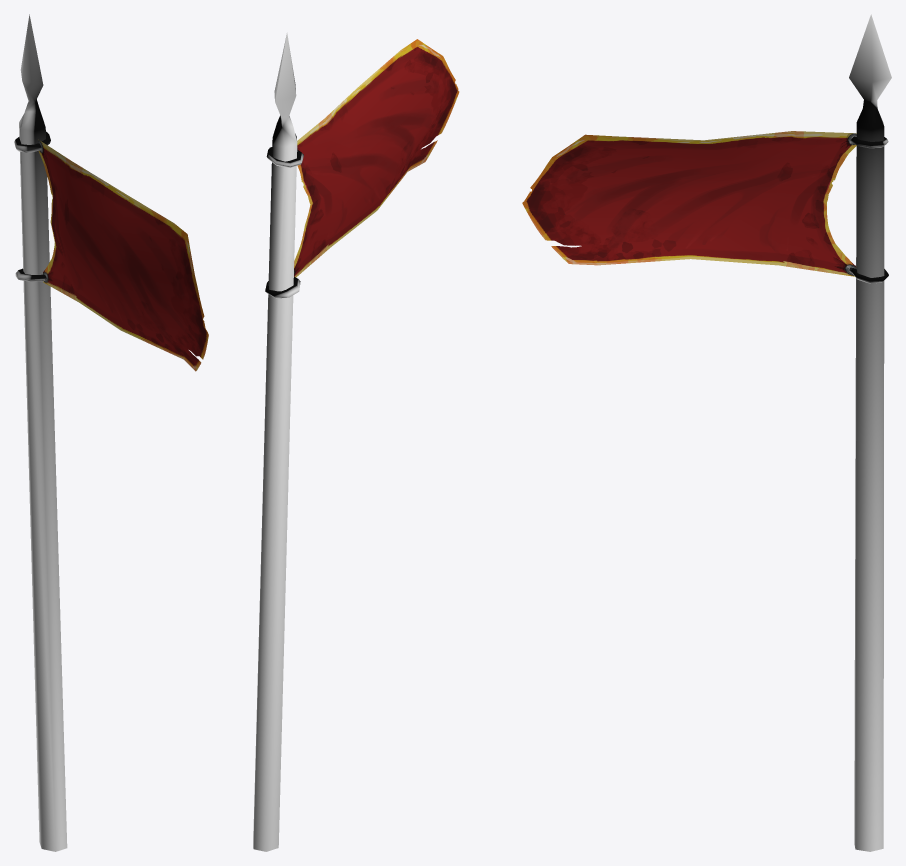
File: SM_PROP_flag_06.FBX
3 renders of one model, left to right at view 1: azimuth 30°, elevation 25°; view 2: azimuth 150°, elevation 25°; view 3: azimuth 270°, elevation 25°, orthographic.
Parts seen in each view (by area): view 1: SM_PROP_flag_06; view 2: SM_PROP_flag_06; view 3: SM_PROP_flag_06.
Part boxes in pixels (x1=…): SM_PROP_flag_06: x1=14, y1=14, x2=208, y2=851; SM_PROP_flag_06: x1=253, y1=32, x2=459, y2=851; SM_PROP_flag_06: x1=522, y1=14, x2=891, y2=851.
Bounding box in the file's own units: 40.65 × 286 × 656.
